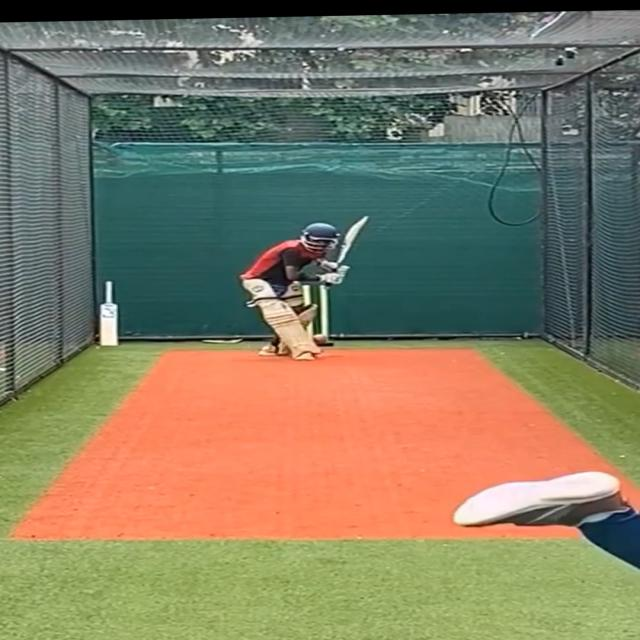ball: (308, 331, 336, 349)
stump: (282, 284, 334, 348)
